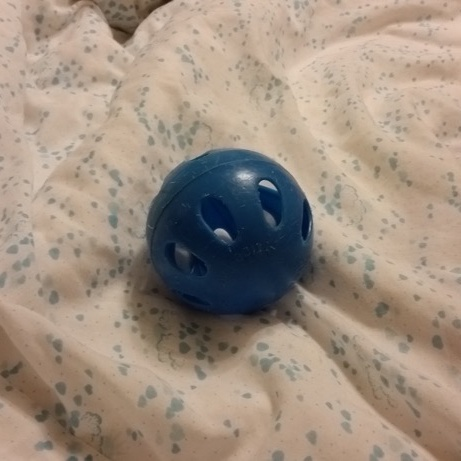blueball: (142, 143, 320, 319)
